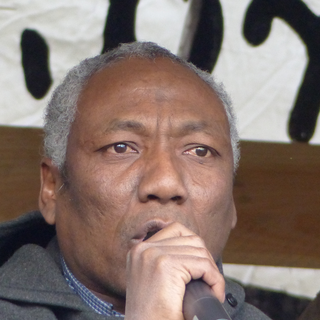eye: (95, 136, 143, 162), (178, 139, 224, 163)
